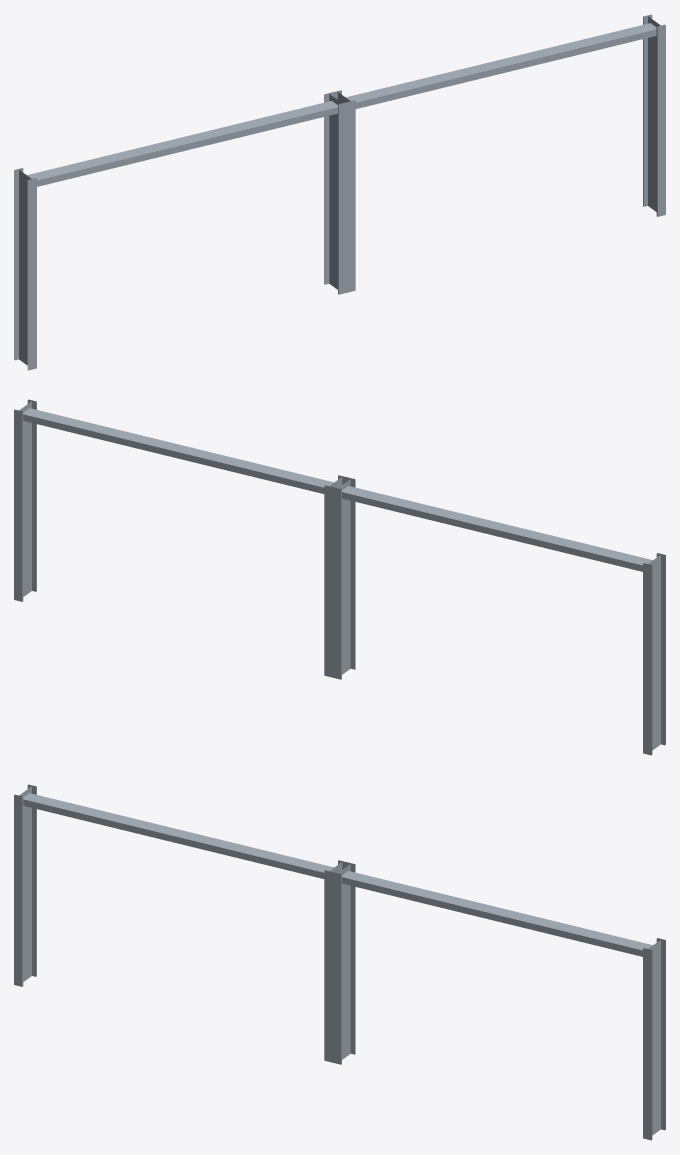
The model's file is SM06_Building_Structure_Wall_Top_Flat_02_Default.fbx.
3 renders of one model, top to bottom at view 1: azimuth 30°, elevation 25°; view 2: azimuth 150°, elevation 25°; view 3: azimuth 330°, elevation 25°, orthographic.
Parts seen in each view (by area): view 1: SM06_Building_Structure_Wall_Top_Flat_02_Default; view 2: SM06_Building_Structure_Wall_Top_Flat_02_Default; view 3: SM06_Building_Structure_Wall_Top_Flat_02_Default.
Boxes of the visible parts, x1,y1,x2,y2 form: SM06_Building_Structure_Wall_Top_Flat_02_Default: (14, 14, 665, 370); SM06_Building_Structure_Wall_Top_Flat_02_Default: (14, 399, 665, 755); SM06_Building_Structure_Wall_Top_Flat_02_Default: (14, 784, 665, 1140).
Bounding box in the file's own units: 15 × 4.27 × 0.59.
